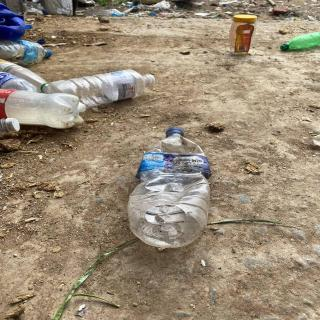Plastic-bottle: (126, 125, 216, 253), (47, 69, 158, 114), (1, 87, 91, 133), (1, 39, 55, 67), (278, 30, 320, 53)
